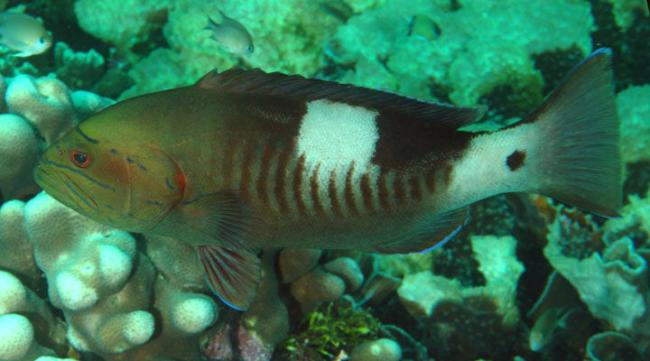fish: (32, 46, 624, 312)
